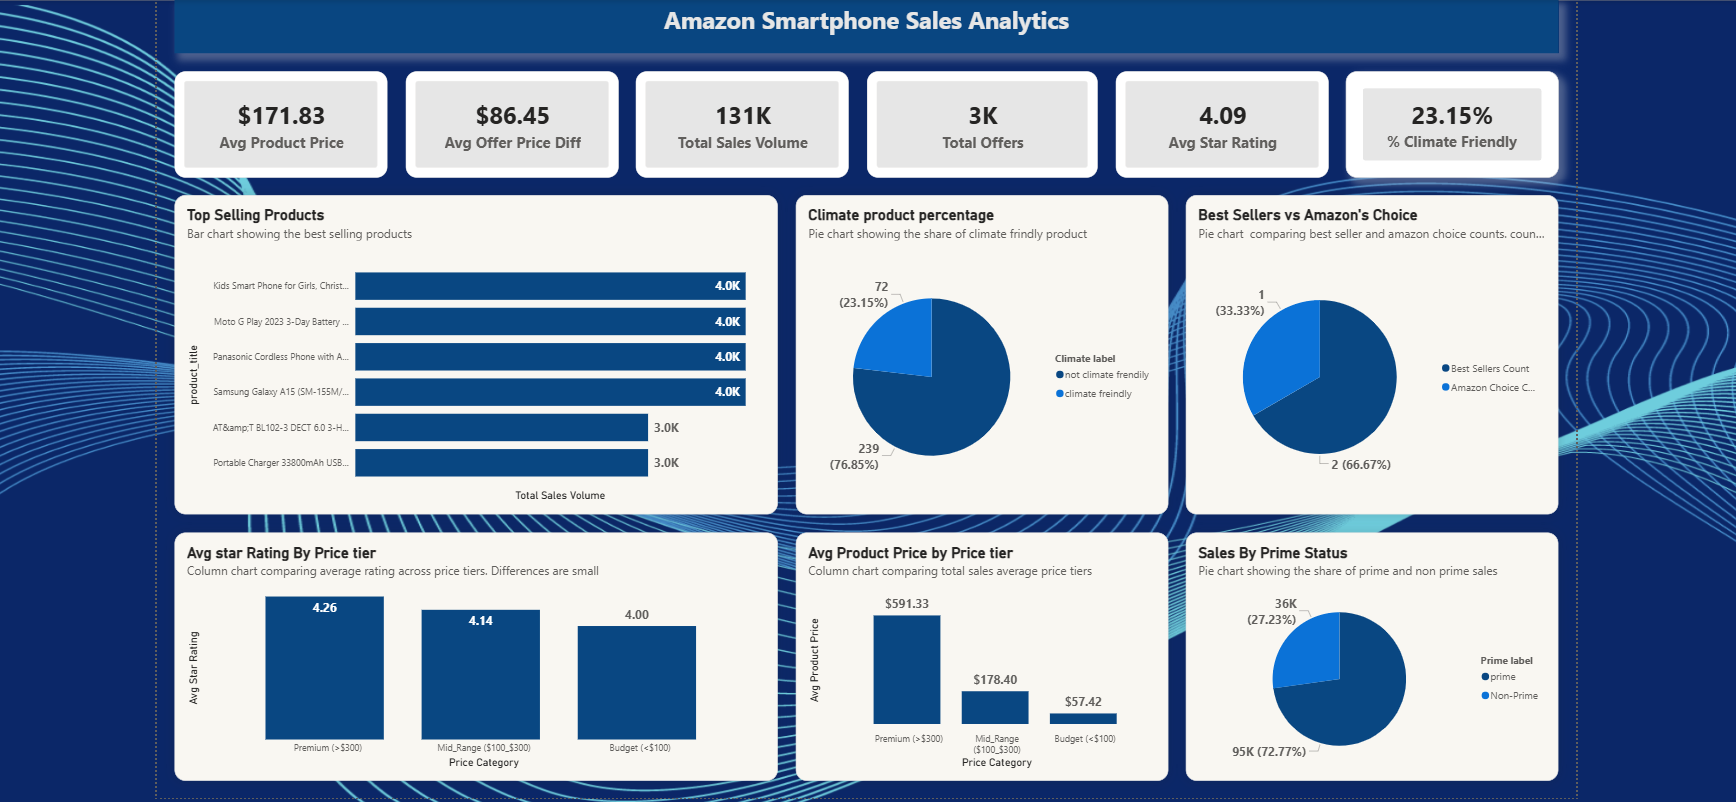

The page's visual inventory and layout, read from the dashboard file:
{"tool":"powerbi","page":{"name":"Page 1","canvas":[1920,1080],"ordinal":0},"visuals":[{"type":"cardVisual","fields":{"Data":["_Measures.Avg Product Price"]},"box":[24,96,288,144],"z":0},{"type":"cardVisual","fields":{"Data":["_Measures.Total Sales Volume"]},"box":[648,96,288,144],"z":1000},{"type":"cardVisual","fields":{"Data":["_Measures.Total Offers"]},"box":[960,96,312,144],"z":2000},{"type":"cardVisual","fields":{"Data":["_Measures.Avg Star Rating"]},"box":[1296,96,288,144],"z":3000},{"type":"cardVisual","fields":{"Data":["_Measures.% Climate Friendly"]},"box":[1608,96,288,144],"z":4000},{"type":"clusteredBarChart","title":"Top Selling Products","fields":{"Category":["phone.product_title"],"Y":["_Measures.Total Sales Volume"]},"box":[24,264,816,432],"z":5000},{"type":"textbox","box":[24,0,1872,72],"z":6000},{"type":"cardVisual","fields":{"Data":["_Measures.Avg Offer Price Diff"]},"box":[336,96,288,144],"z":7000},{"type":"pieChart","title":"Best Sellers vs Amazon''s Choice","fields":{"Y":["_Measures.Best Sellers Count","_Measures.Amazon Choice Count"]},"box":[1392,264,504,432],"z":8000},{"type":"pieChart","title":"Sales By Prime Status","fields":{"Category":["phone.Prime label"],"Y":["_Measures.Total Sales Volume"]},"box":[1392,720,504,336],"z":9000},{"type":"clusteredColumnChart","title":"Avg star Rating By Price tier","fields":{"Category":["phone.Price Category"],"Y":["_Measures.Avg Star Rating"]},"box":[24,720,816,336],"z":10000},{"type":"clusteredColumnChart","title":"Avg Product Price by Price tier","fields":{"Category":["phone.Price Category"],"Y":["_Measures.Avg Product Price"]},"box":[864,720,504,336],"z":11000},{"type":"pieChart","title":"Climate product percentage ","fields":{"Category":["phone.Climate label"],"Y":["CountNonNull(phone.sales_volume)"]},"box":[864,264,504,432],"z":12000}]}

Visuals, with their boxes in screenshot pixels (x1, y1, x2, y2):
cardVisual - _Measures.Avg Product Price: 180:70:391:175
cardVisual - _Measures.Total Sales Volume: 636:70:847:175
cardVisual - _Measures.Total Offers: 864:70:1092:175
cardVisual - _Measures.Avg Star Rating: 1110:70:1320:175
cardVisual - _Measures.% Climate Friendly: 1338:70:1548:175
"Top Selling Products" clusteredBarChart: 180:193:777:509
textbox: 180:0:1548:53
cardVisual - _Measures.Avg Offer Price Diff: 408:70:619:175
"Best Sellers vs Amazon''s Choice" pieChart: 1180:193:1548:509
"Sales By Prime Status" pieChart: 1180:526:1548:772
"Avg star Rating By Price tier" clusteredColumnChart: 180:526:777:772
"Avg Product Price by Price tier" clusteredColumnChart: 794:526:1162:772
"Climate product percentage " pieChart: 794:193:1162:509
